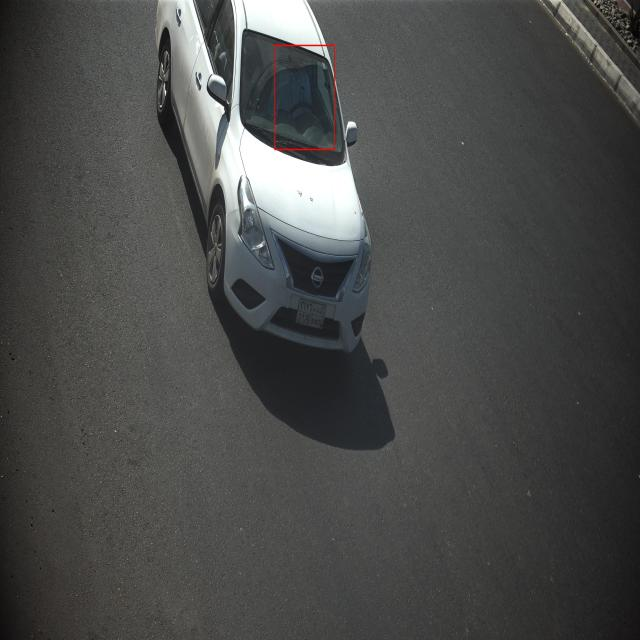windshield: (236, 13, 348, 178)
